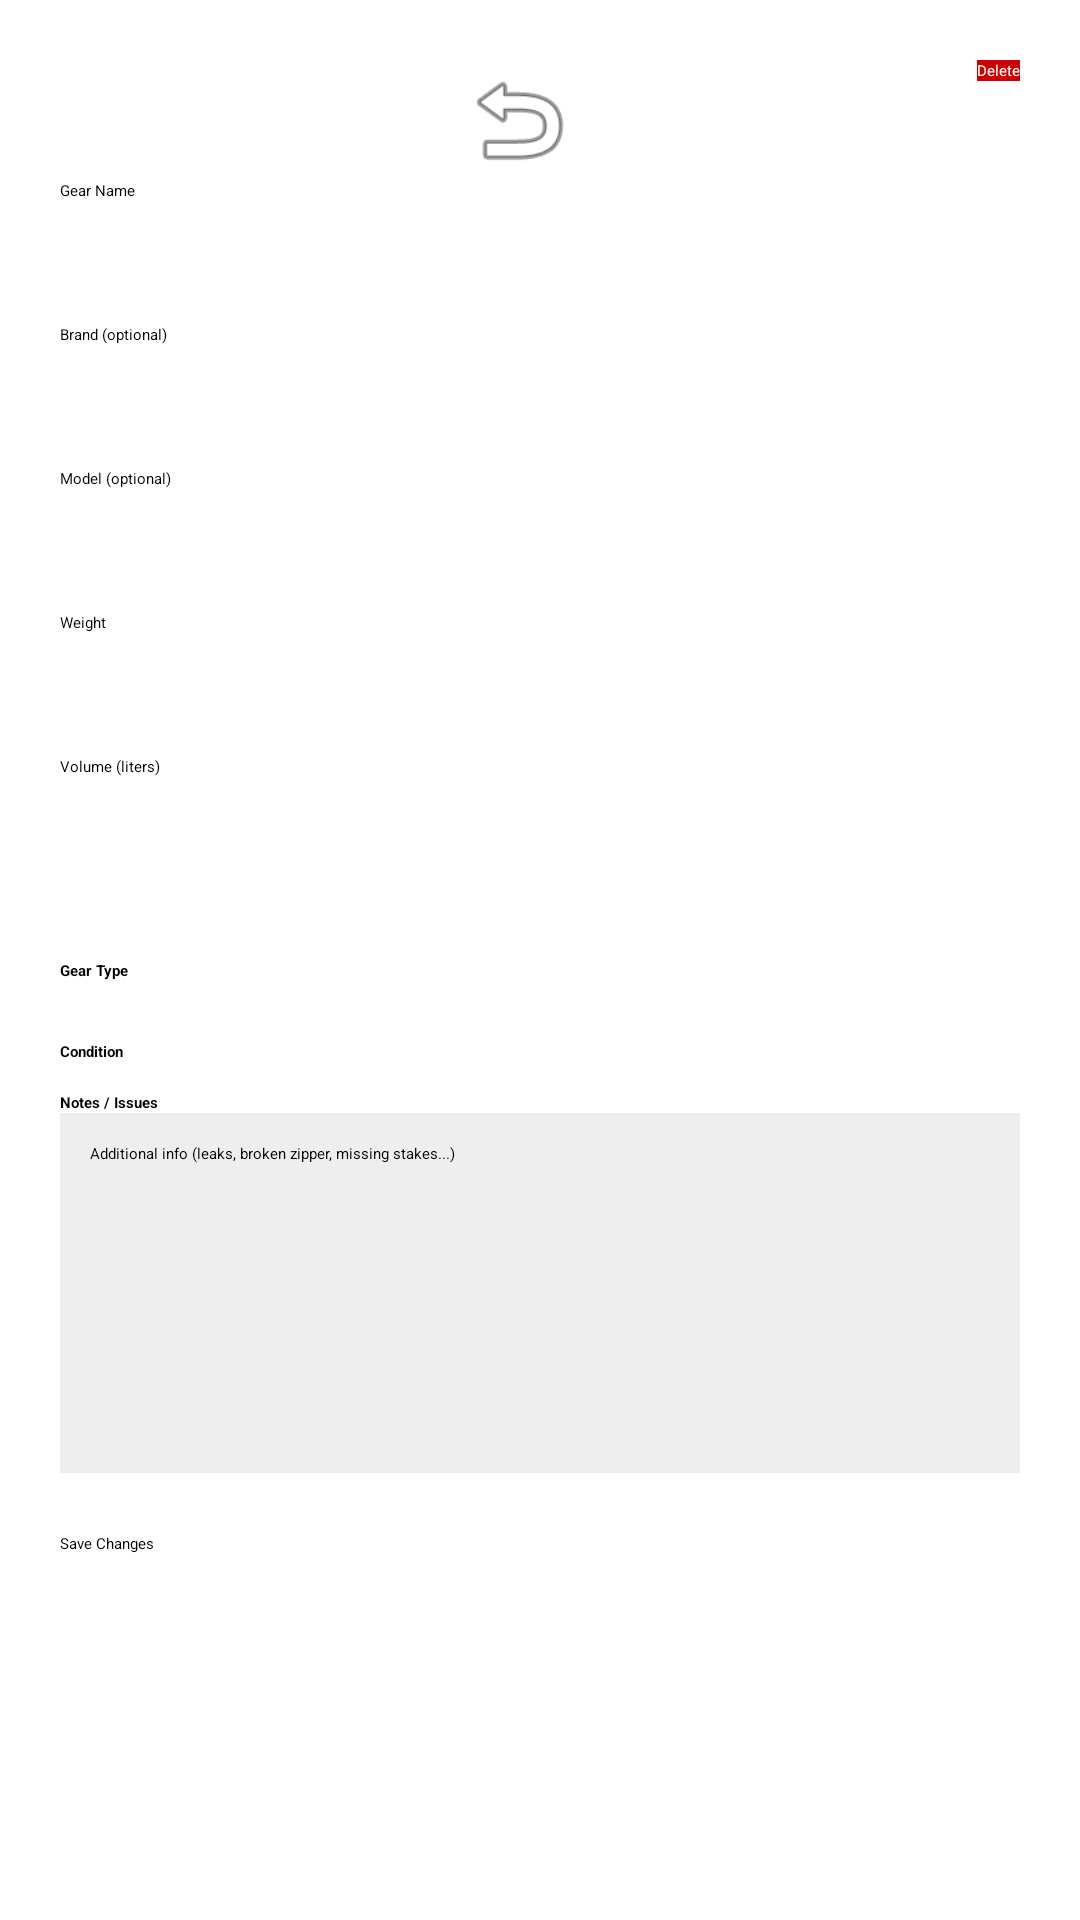

Point at icon controls on the screen. Image size 1080x1920, points as (x,y).
Back: (520,121)
